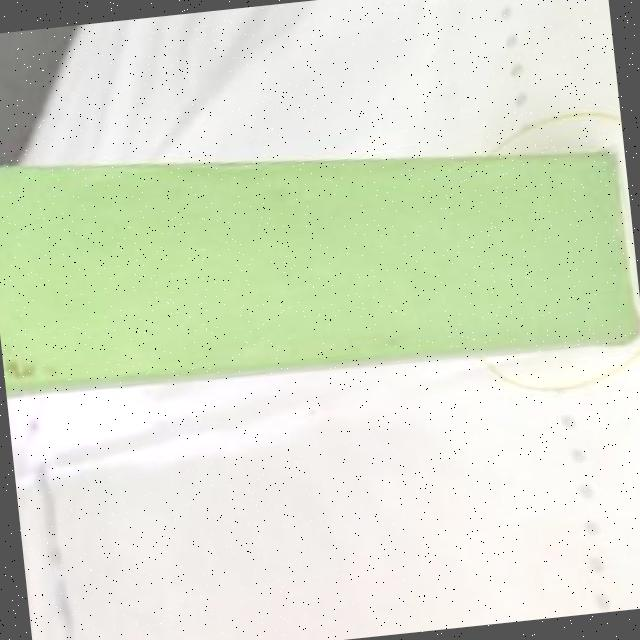greenbox: (0, 95, 637, 404)
